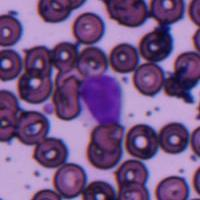L: (80, 72, 123, 125)
